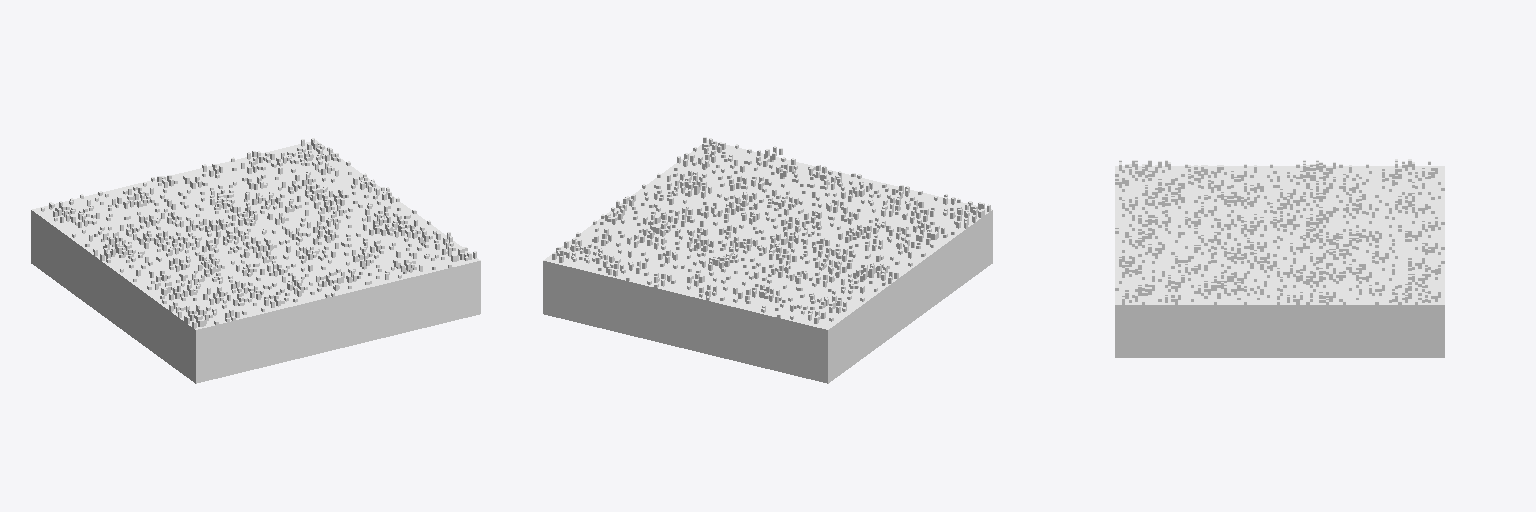
The model's file is orange-100x100-grass-lush-2.obj.
The picture shows the model from 3 angles: view 1: azimuth 30°, elevation 25°; view 2: azimuth 150°, elevation 25°; view 3: azimuth 270°, elevation 25°; orthographic projection.
Parts seen in each view (by area): view 1: orange-100x100-grass-lush-2; view 2: orange-100x100-grass-lush-2; view 3: orange-100x100-grass-lush-2.
Boxes of the visible parts, box(x1,y1,x2,y2) form: orange-100x100-grass-lush-2: box(31, 138, 480, 383); orange-100x100-grass-lush-2: box(543, 137, 992, 383); orange-100x100-grass-lush-2: box(1115, 159, 1444, 357).
Bounding box in the file's own units: 100 × 22 × 100.